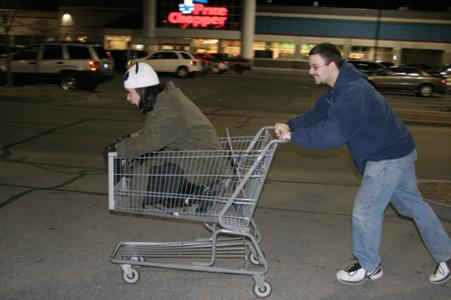person: (274, 42, 451, 287)
